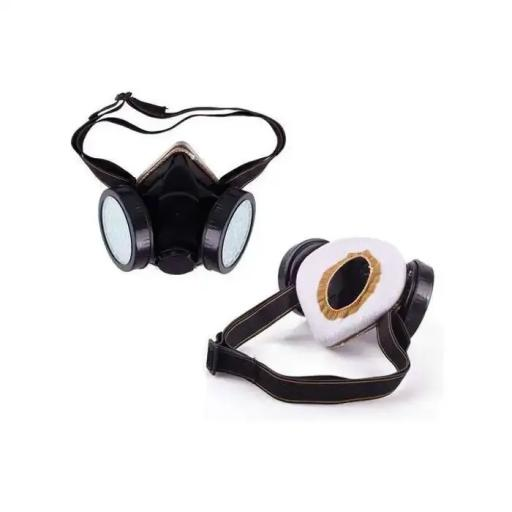mask: (72, 136, 274, 296)
